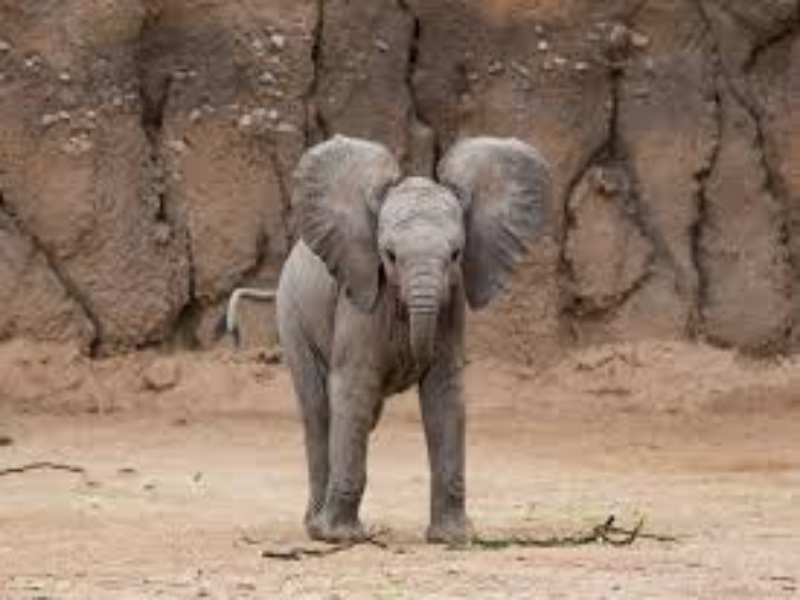elephant: (257, 104, 571, 563)
